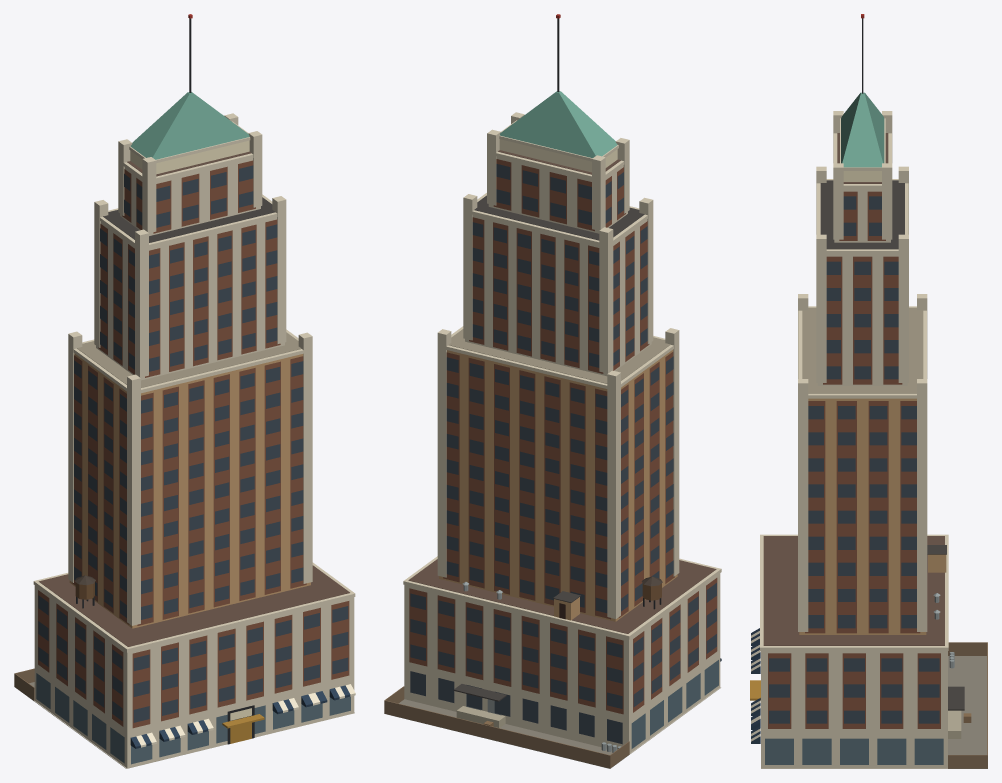
File: glasstower_wb.glb
3 views of the same model, side by side, from view 1: azimuth 30°, elevation 25°; view 2: azimuth 150°, elevation 25°; view 3: azimuth 270°, elevation 25° (orthographic). The views are drawn at different scales.
Visible parts, largest first — view 1: glasstower_wb; view 2: glasstower_wb; view 3: glasstower_wb.
Boxes of the visible parts, bbox=[...] form: glasstower_wb: bbox=[14, 14, 355, 768]; glasstower_wb: bbox=[384, 14, 721, 768]; glasstower_wb: bbox=[750, 14, 987, 768].
Bounding box in the file's own units: 30 × 86.45 × 26.72.
